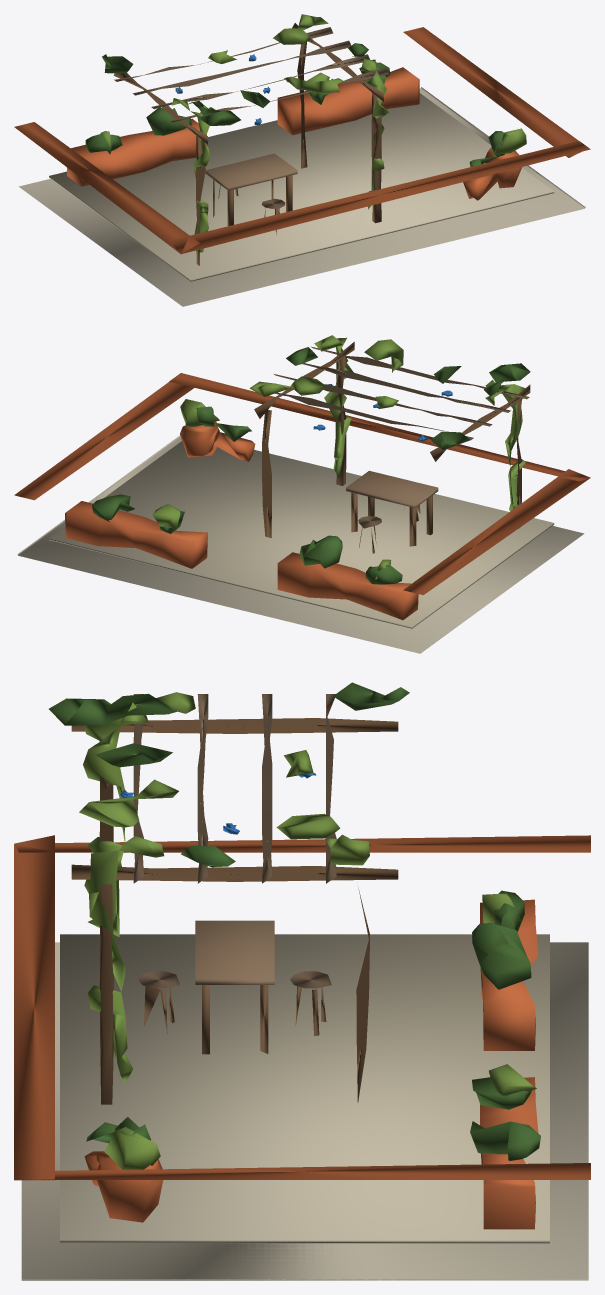
Rendered from home_villa-roof_t3_garden.glb.
3 views of the same model, one above another, from view 1: azimuth 30°, elevation 25°; view 2: azimuth 150°, elevation 25°; view 3: azimuth 270°, elevation 25° (orthographic). The views are drawn at different scales.
Visible parts, largest first — view 1: paving, cream, terracotta0, terracotta, wood, leaf, wood_dark, leaf_dark; view 2: paving, cream, terracotta, terracotta0, leaf, wood, leaf_dark, wood_dark; view 3: paving, cream, terracotta0, leaf, wood_dark, leaf_dark, terracotta, wood.
Boxes of the visible parts, x1=… form: paving: x1=49, y1=93, x2=554, y2=281; cream: x1=19, y1=87, x2=585, y2=306; terracotta0: x1=14, y1=27, x2=590, y2=254; terracotta: x1=67, y1=67, x2=521, y2=200; wood: x1=114, y1=27, x2=388, y2=208; leaf: x1=100, y1=14, x2=526, y2=252; wood_dark: x1=113, y1=23, x2=383, y2=265; leaf_dark: x1=85, y1=43, x2=505, y2=166; paving: x1=49, y1=441, x2=554, y2=628; cream: x1=17, y1=435, x2=584, y2=653; terracotta: x1=65, y1=421, x2=418, y2=620; terracotta0: x1=14, y1=373, x2=590, y2=595; leaf: x1=152, y1=335, x2=525, y2=579; wood: x1=274, y1=346, x2=529, y2=528; leaf_dark: x1=92, y1=347, x2=530, y2=584; wood_dark: x1=254, y1=341, x2=530, y2=553; paving: x1=60, y1=934, x2=549, y2=1243; cream: x1=21, y1=942, x2=588, y2=1280; terracotta0: x1=14, y1=835, x2=590, y2=1180; leaf: x1=79, y1=692, x2=536, y2=1169; wood_dark: x1=71, y1=718, x2=398, y2=1104; leaf_dark: x1=49, y1=682, x2=540, y2=1160; terracotta: x1=84, y1=899, x2=538, y2=1229; wood: x1=133, y1=694, x2=336, y2=988.
Bounding box in the file's own units: 7 × 2.74 × 4.94.
